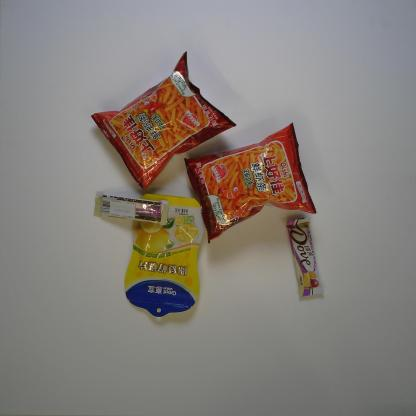Chocolate: (284, 216, 324, 300), (93, 193, 170, 226)
Dried Fruit: (122, 193, 204, 320)
Puffed Food: (90, 50, 237, 192), (183, 121, 317, 245)
